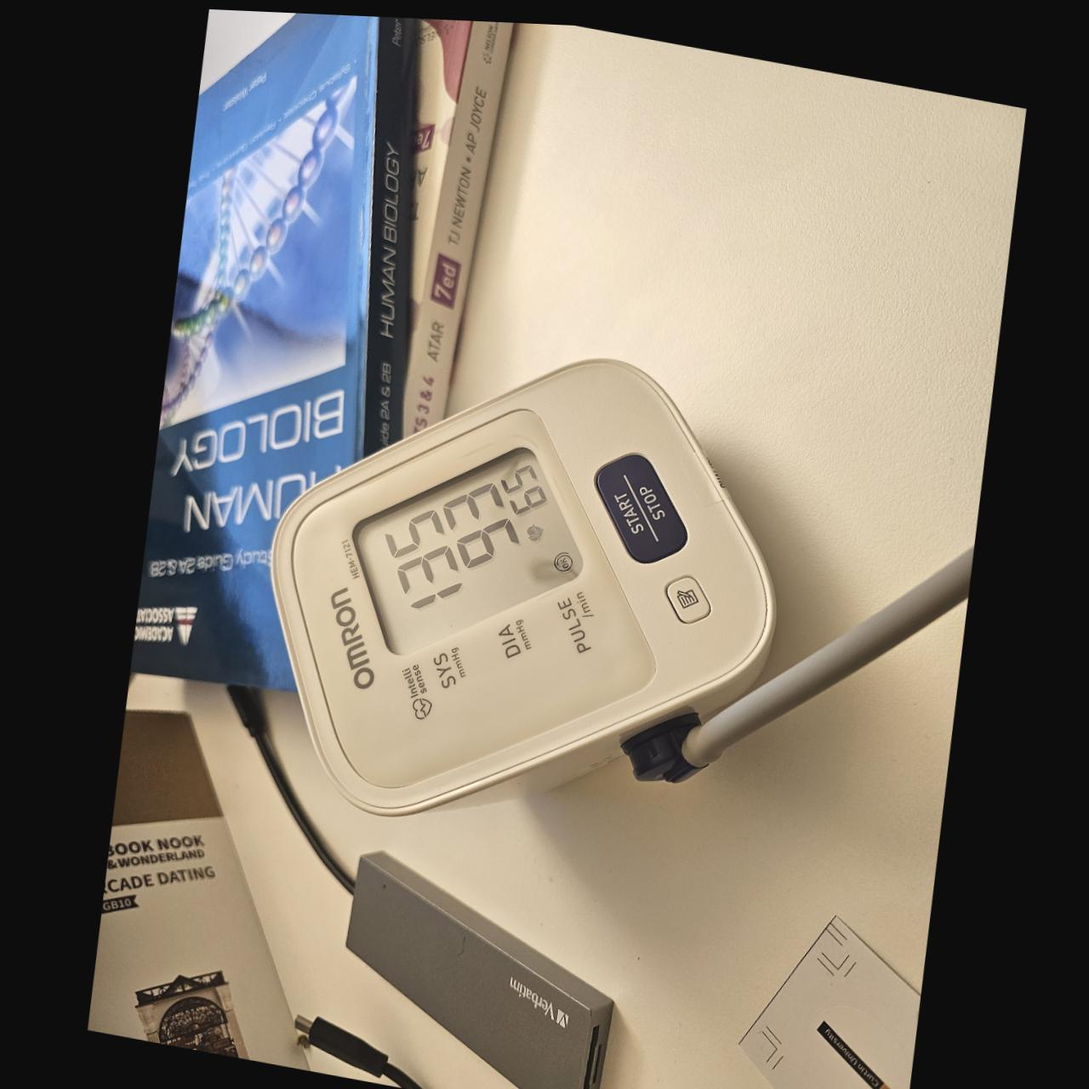blood pressure monitor: (231, 297, 813, 886)
